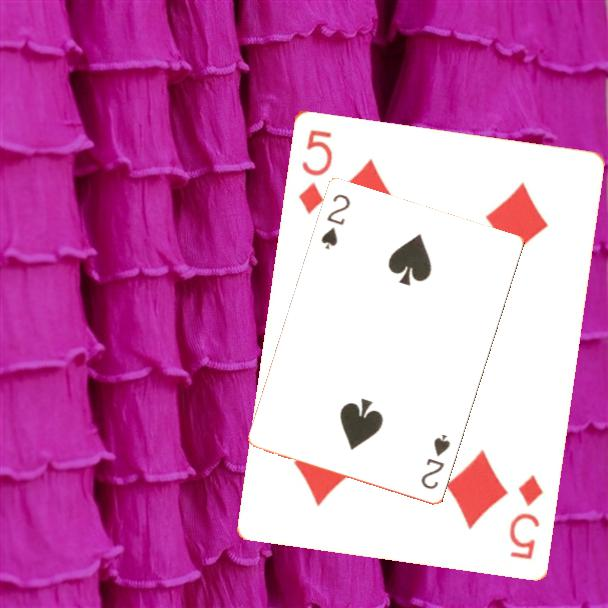d05: (294, 125, 335, 216), (505, 471, 546, 562)
s02: (418, 431, 454, 493), (318, 191, 354, 253)
